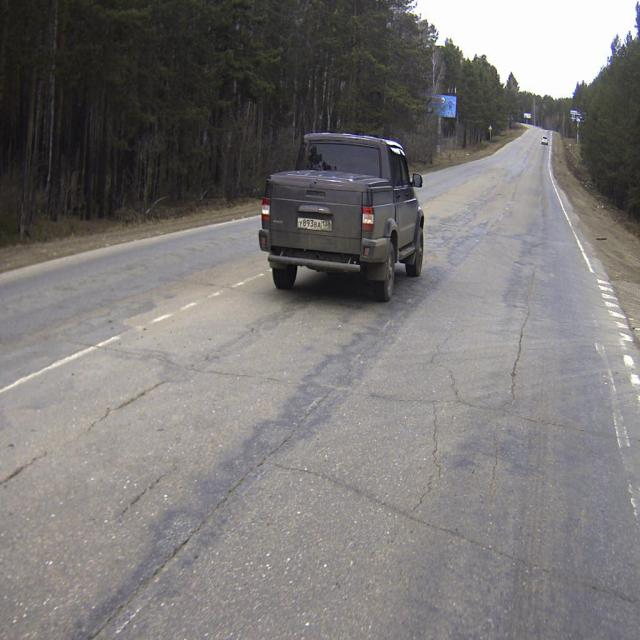road: (0, 124, 640, 639)
